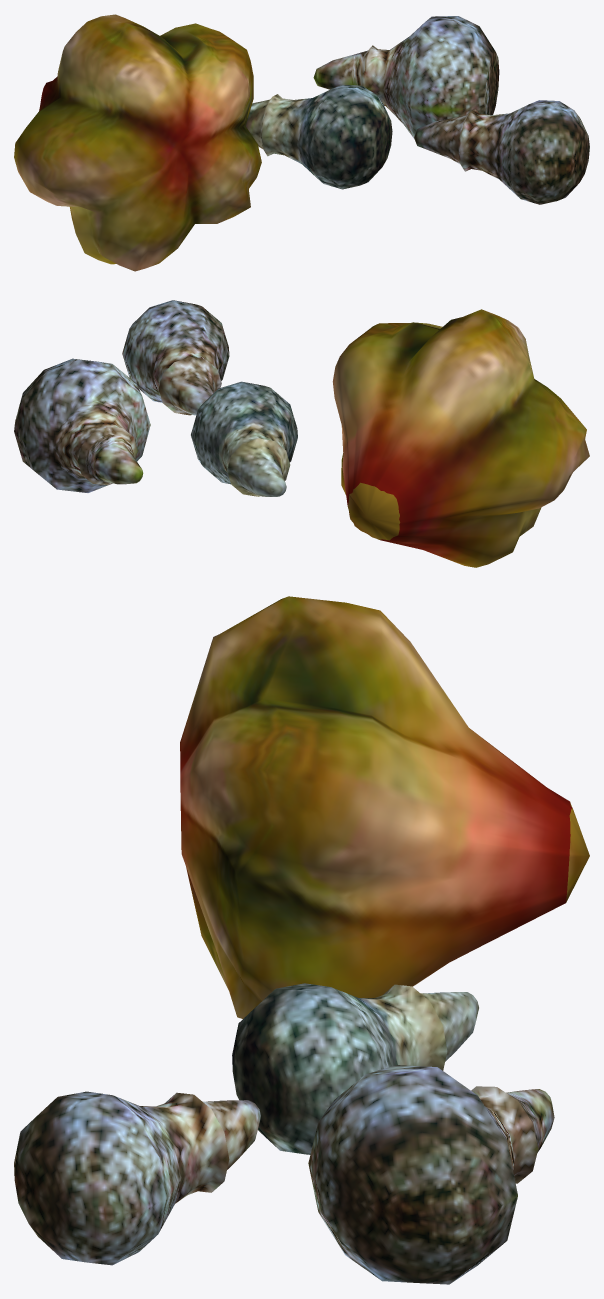
Rendered from wuzhuyu.FBX.
The picture shows the model from 3 angles, top to bottom: view 1: azimuth 30°, elevation 25°; view 2: azimuth 150°, elevation 25°; view 3: azimuth 270°, elevation 25°; orthographic projection. The views are drawn at different scales.
Visible parts, largest first — view 1: Cylinder004, Cylinder002, Cylinder003, Cylinder001; view 2: Cylinder004, Cylinder002, Cylinder001, Cylinder003; view 3: Cylinder004, Cylinder002, Cylinder003, Cylinder001.
Boxes of the visible parts, x1,y1,x2,y2 form: Cylinder004: (14,14,261,271); Cylinder002: (313,16,499,138); Cylinder003: (414,100,589,204); Cylinder001: (245,84,392,189); Cylinder004: (332,309,589,567); Cylinder002: (14,358,150,492); Cylinder001: (191,381,297,496); Cylinder003: (122,300,229,415); Cylinder004: (180,596,589,1018); Cylinder002: (308,1065,554,1284); Cylinder003: (14,1091,260,1265); Cylinder001: (232,983,478,1154).
Bounding box in the file's own units: 49.41 × 22.84 × 29.34.
